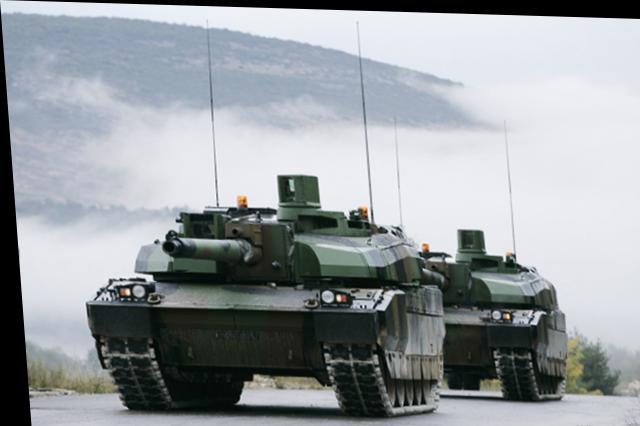tank: (65, 169, 447, 415), (423, 225, 576, 392)
